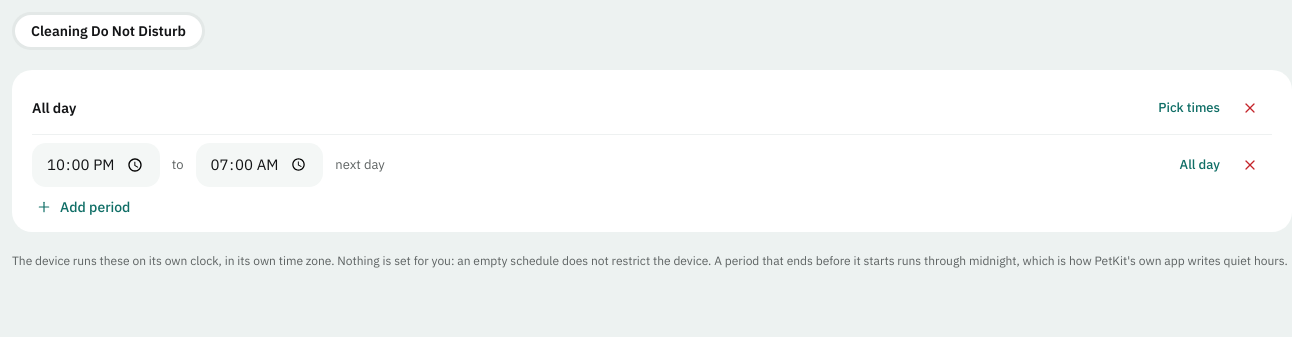
Test: DeviceSchedules › edits a range list and saves the minutes as the wire form
Expected: the text "All day" is shown, top-left (32, 98), bottom-right (76, 118)
Expected: the text "next day" is shown, top-left (335, 156), bottom-right (385, 174)
Replace the text in the time field named "period 2 start" with "21:30" at {"x": 96, "y": 165}, box top-left (32, 143), bottom-right (160, 187)
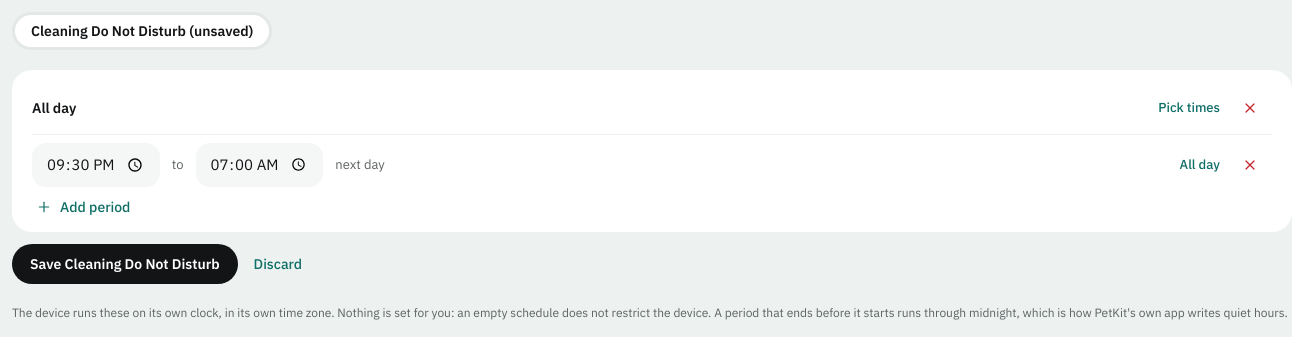
Click the button named "Remove period 1" at {"x": 1250, "y": 108}, box top-left (1228, 92), bottom-right (1272, 124)
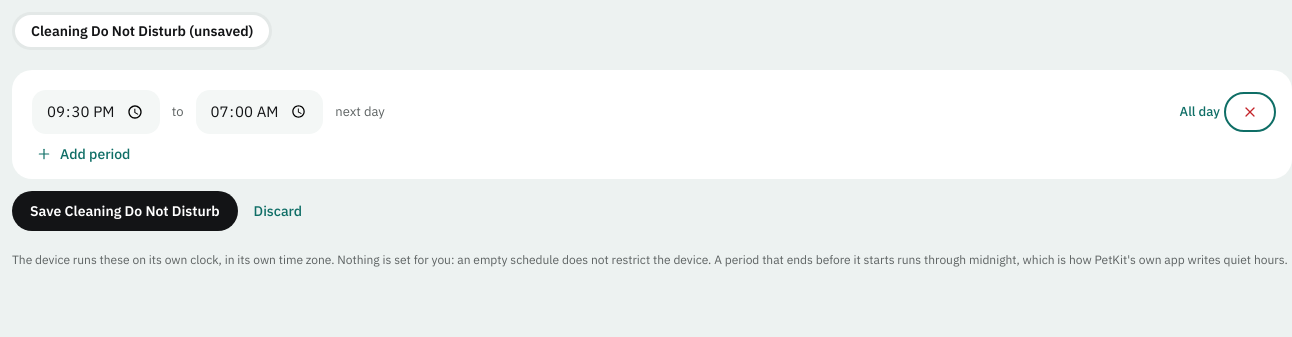
Click the button "Save Cleaning Do Not Disturb" at {"x": 125, "y": 211}, box top-left (12, 191), bottom-right (238, 231)
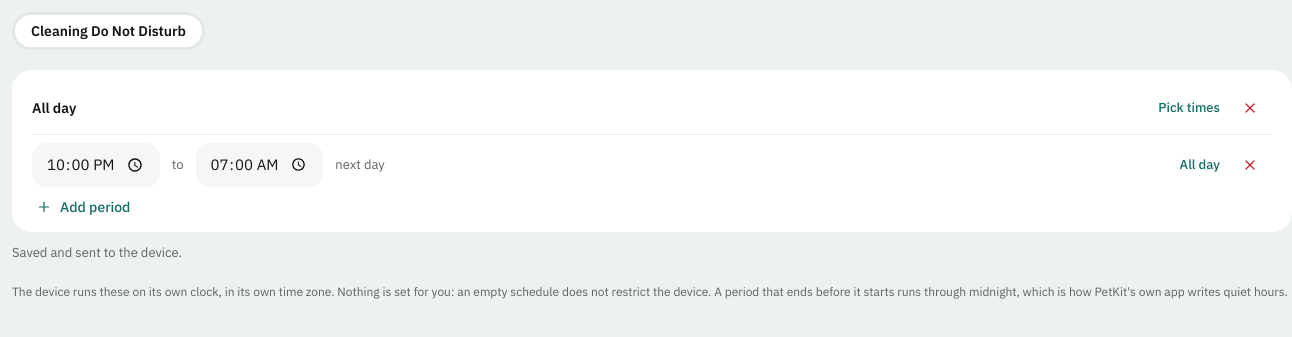
Expected: the message shows "sent to the device", top-left (12, 244), bottom-right (182, 261)
